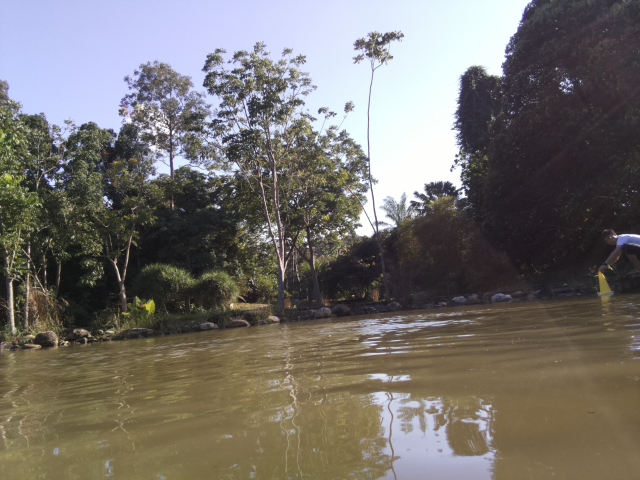checkpoint: (595, 270, 616, 301)
